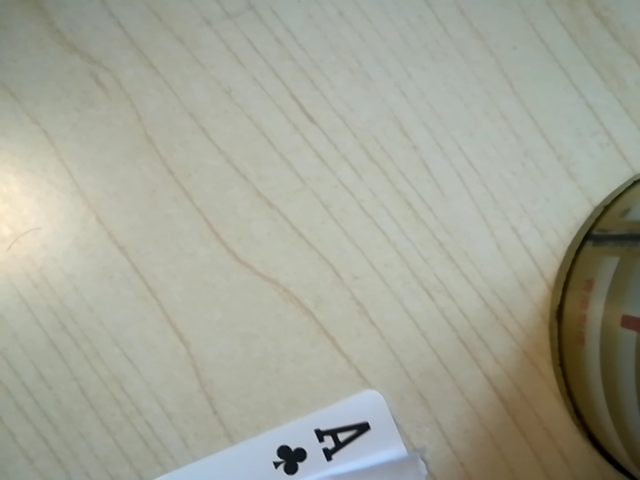mh a: (254, 406, 398, 478)
